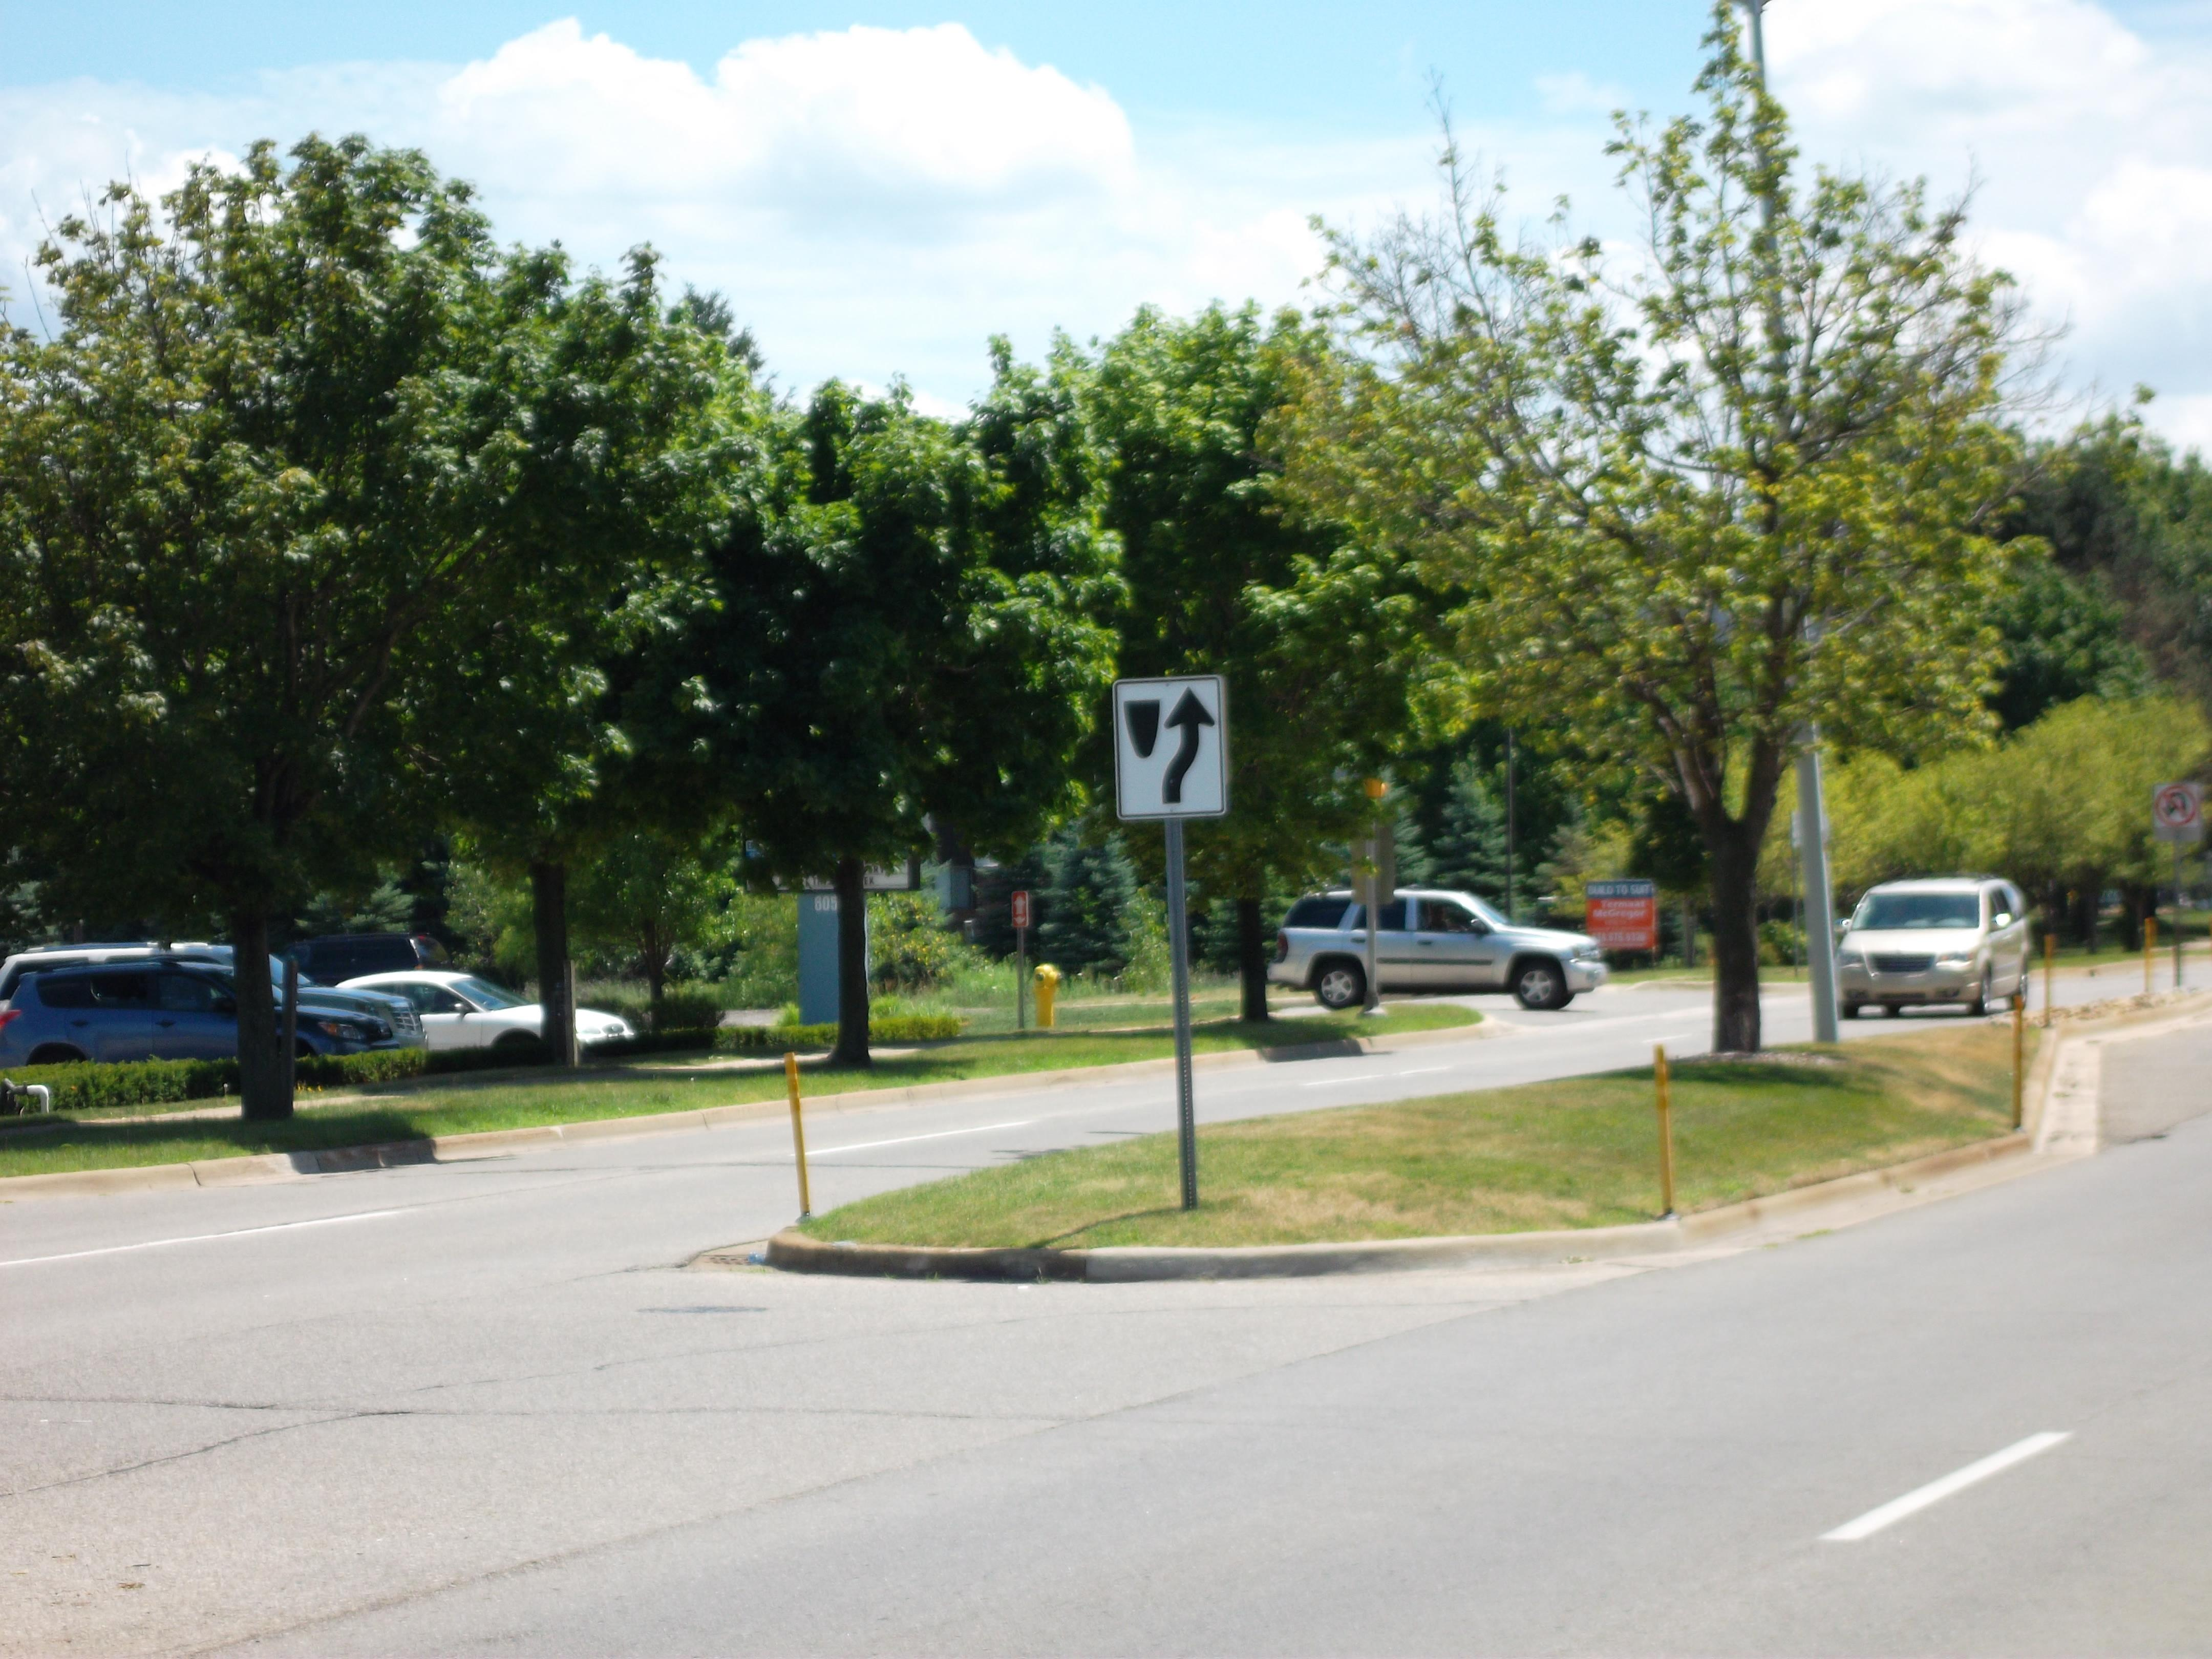regulatory: (1106, 666, 1226, 819)
